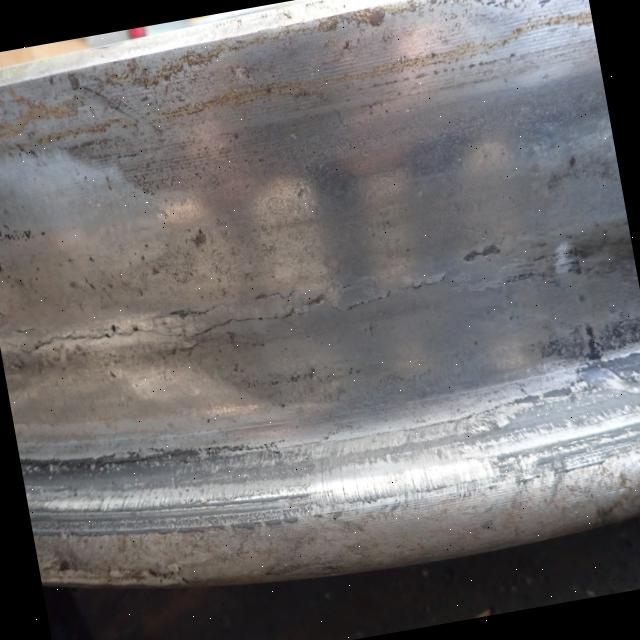Contact_Fatigue_Cracks: (32, 281, 324, 370), (343, 264, 455, 322)
Peeling: (601, 313, 640, 355), (581, 320, 607, 367), (462, 240, 506, 265), (190, 227, 212, 251), (1, 258, 5, 273)
